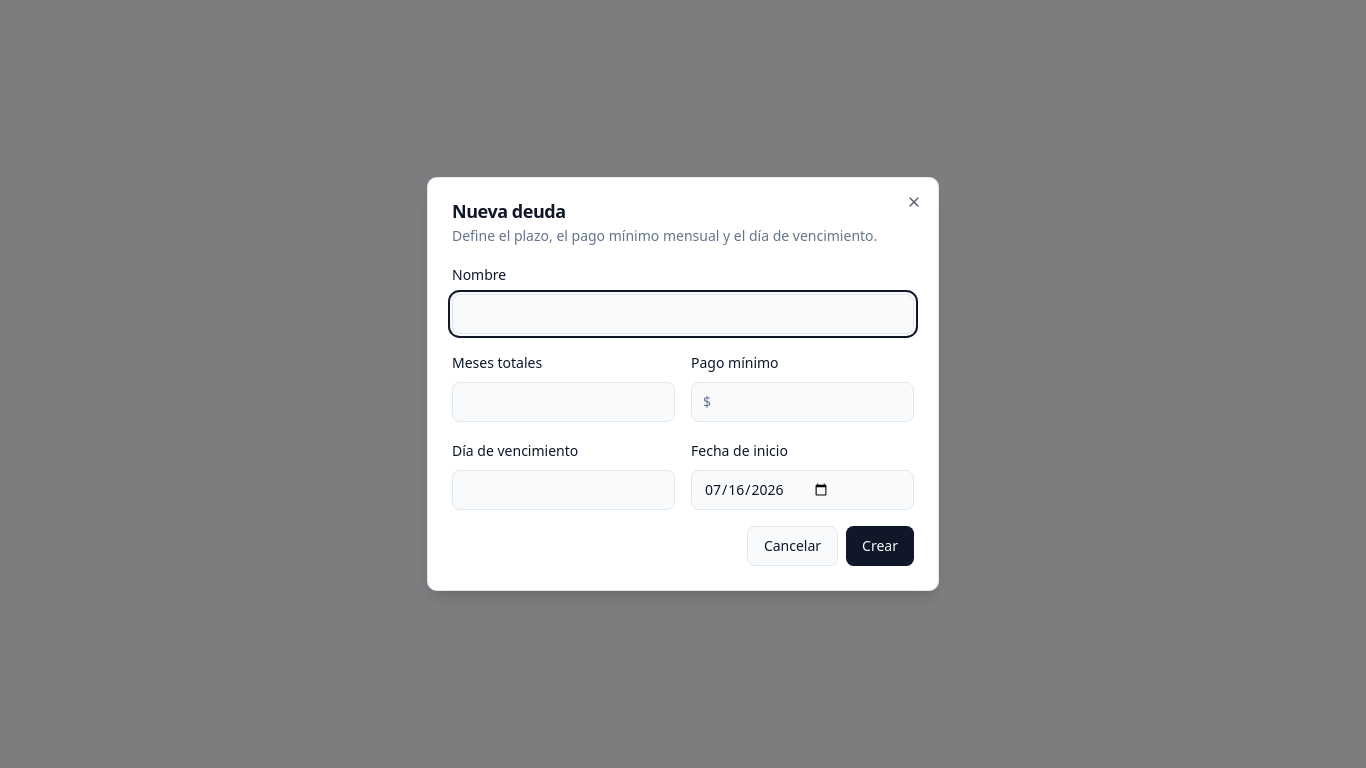
Scenario: DebtForm validation › blocks submit and shows an error when required fields are empty
What coordinates should you click on to do the following:
click the button "Crear"
I would click on:
 (880, 546)
Its box is [846, 526, 914, 566].
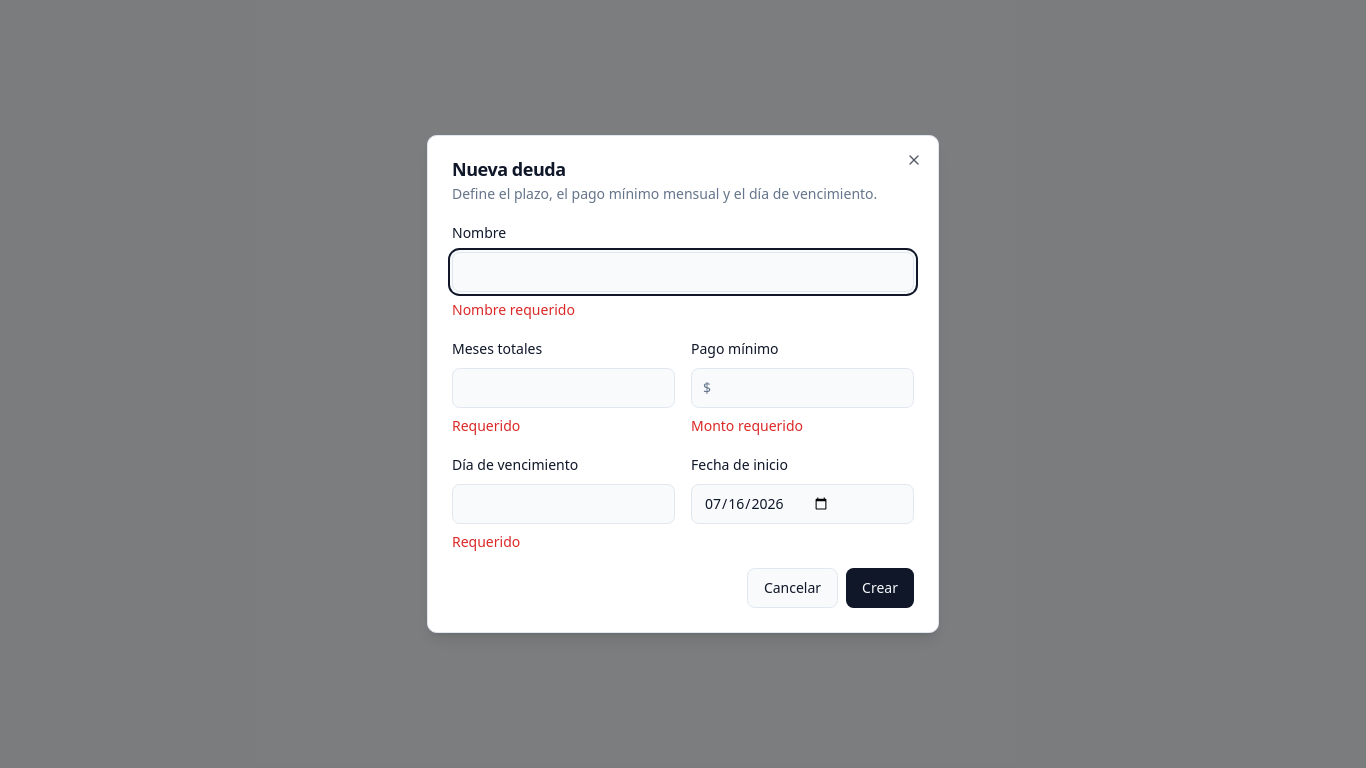
Expected: the text "Nombre requerido" is shown, [452, 300, 575, 319]
